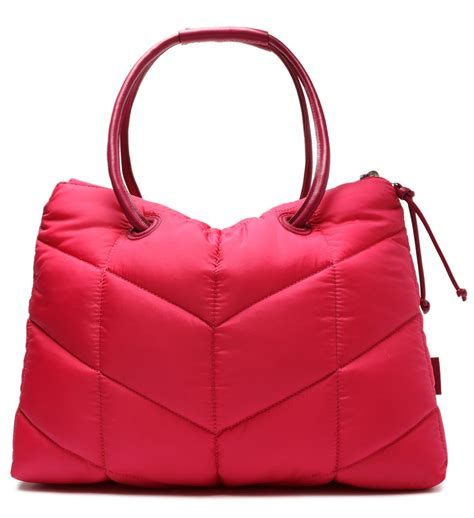nylon: (9, 174, 448, 492)
